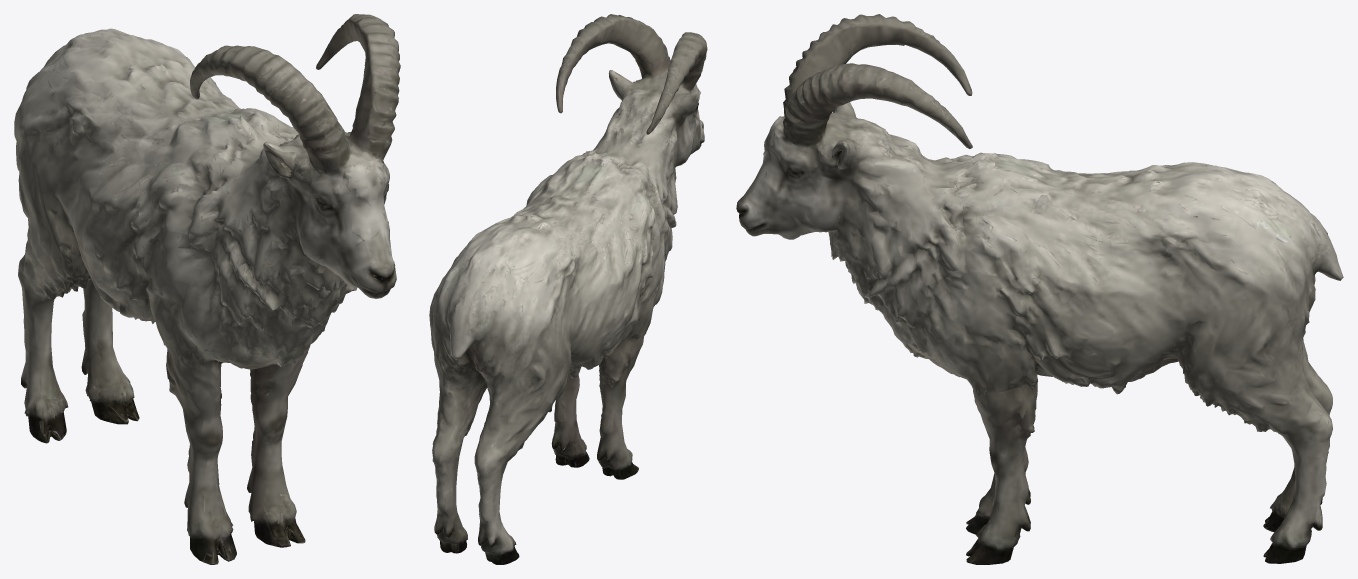
The model's file is goat.glb.
3 views of the same model, side by side, from view 1: azimuth 30°, elevation 25°; view 2: azimuth 150°, elevation 25°; view 3: azimuth 270°, elevation 25° (orthographic). The views are drawn at different scales.
Visible parts, largest first — view 1: Mesh_0; view 2: Mesh_0; view 3: Mesh_0.
Part boxes in pixels (box(x1,y1,x2,y2)): Mesh_0: box(14, 14, 400, 564); Mesh_0: box(429, 14, 707, 564); Mesh_0: box(736, 14, 1343, 564).
Size of the model in its own units: 0.6213 by 1.73 by 1.9.
Materials: 1 (1 with a texture image).
